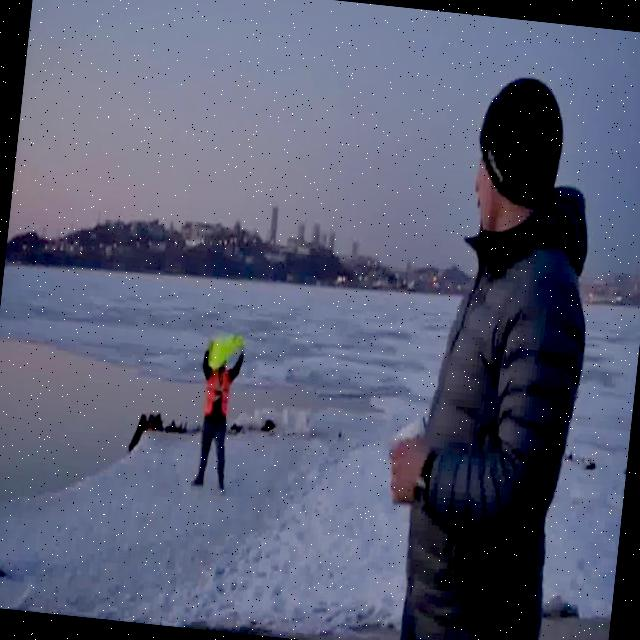vest: (205, 332, 247, 372), (202, 364, 234, 416)
